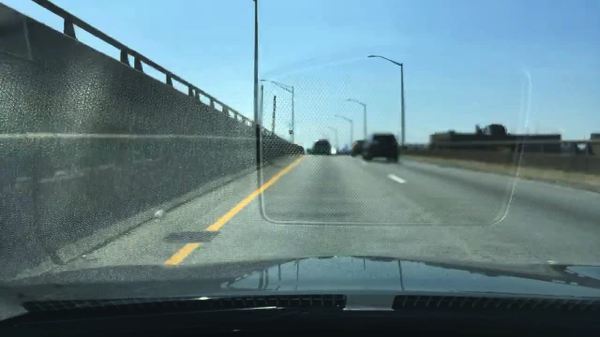car: (364, 134, 399, 162), (350, 139, 367, 158), (312, 139, 331, 155), (289, 145, 305, 156), (305, 148, 310, 154)
